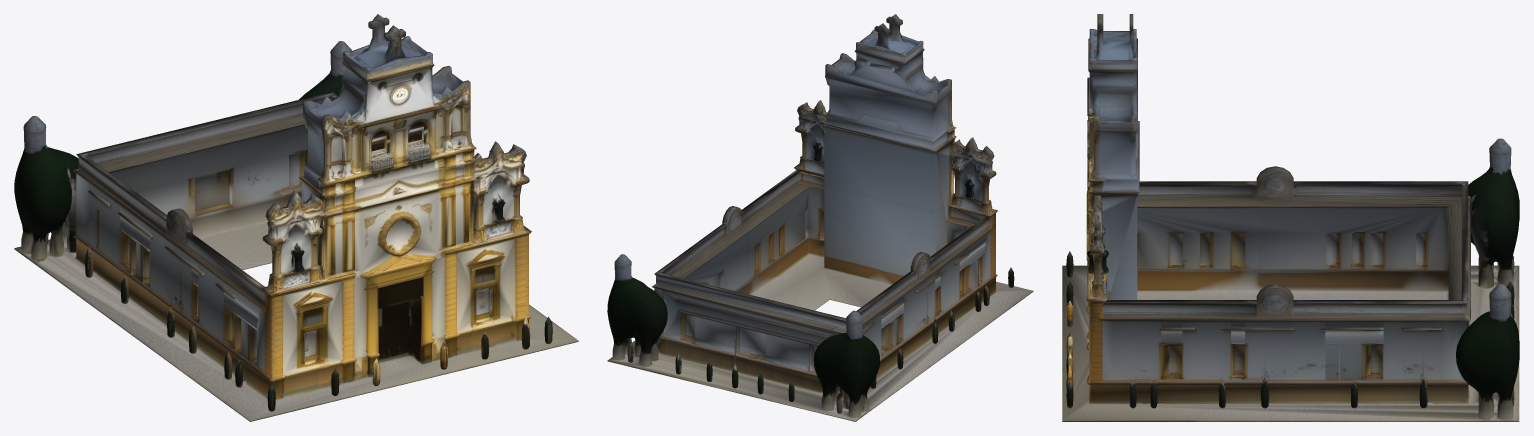
File: Iglesia amarilla .fbx
The picture shows the model from 3 angles, left to right: view 1: azimuth 30°, elevation 25°; view 2: azimuth 150°, elevation 25°; view 3: azimuth 270°, elevation 25°; orthographic projection. The views are drawn at different scales.
Visible parts, largest first — view 1: mesh_rep_0_ori_repair_quad; view 2: mesh_rep_0_ori_repair_quad; view 3: mesh_rep_0_ori_repair_quad.
Part boxes in pixels (x1,y1,x2,y2): mesh_rep_0_ori_repair_quad: (14, 14, 578, 421); mesh_rep_0_ori_repair_quad: (607, 14, 1033, 421); mesh_rep_0_ori_repair_quad: (1062, 14, 1519, 421).
Size of the model in its own units: 1094 by 1032 by 1295.
1 material, 1 textured.
